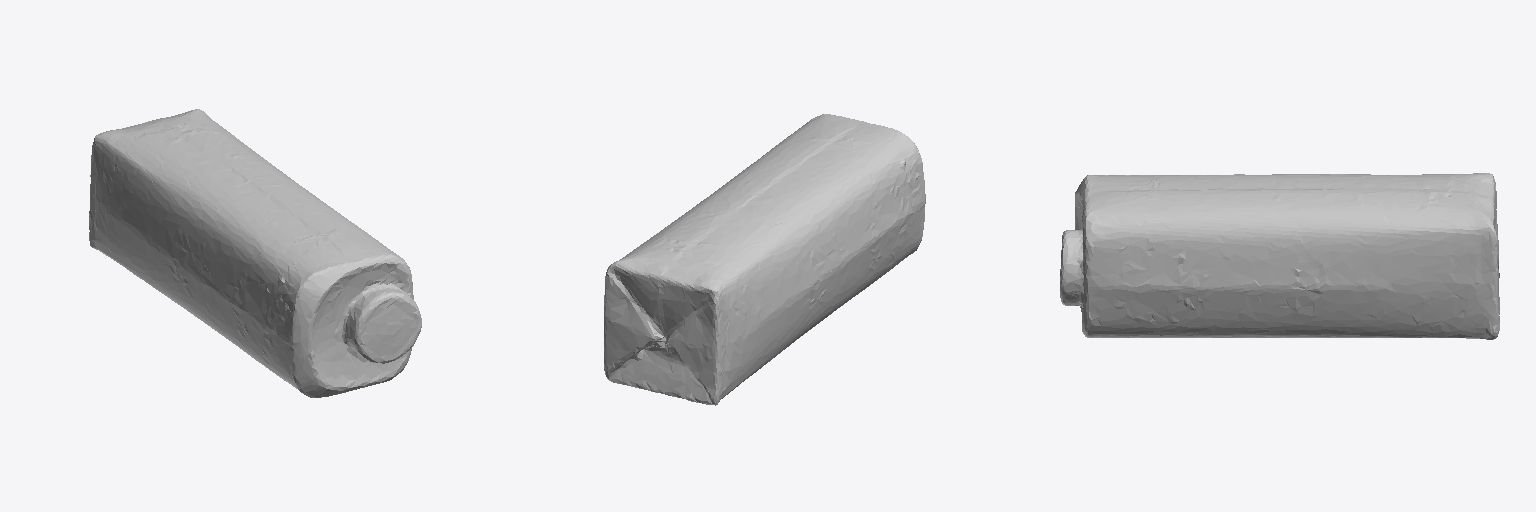
File: BaerenMarkeFrischeAlpenmilch18.obj
The picture shows the model from 3 angles: view 1: azimuth 30°, elevation 25°; view 2: azimuth 150°, elevation 25°; view 3: azimuth 270°, elevation 25°; orthographic projection.
Visible parts, largest first — view 1: BaerenMarkeFrischeAlpenmilch18_SM_BaerenMarkeFrischeAlpenmilch18; view 2: BaerenMarkeFrischeAlpenmilch18_SM_BaerenMarkeFrischeAlpenmilch18; view 3: BaerenMarkeFrischeAlpenmilch18_SM_BaerenMarkeFrischeAlpenmilch18.
Boxes of the visible parts, box(x1,y1,x2,y2) form: BaerenMarkeFrischeAlpenmilch18_SM_BaerenMarkeFrischeAlpenmilch18: box(89, 109, 421, 397); BaerenMarkeFrischeAlpenmilch18_SM_BaerenMarkeFrischeAlpenmilch18: box(604, 114, 925, 405); BaerenMarkeFrischeAlpenmilch18_SM_BaerenMarkeFrischeAlpenmilch18: box(1060, 173, 1499, 339).
Bounding box in the file's own units: 0.0886 × 0.089 × 0.2613.